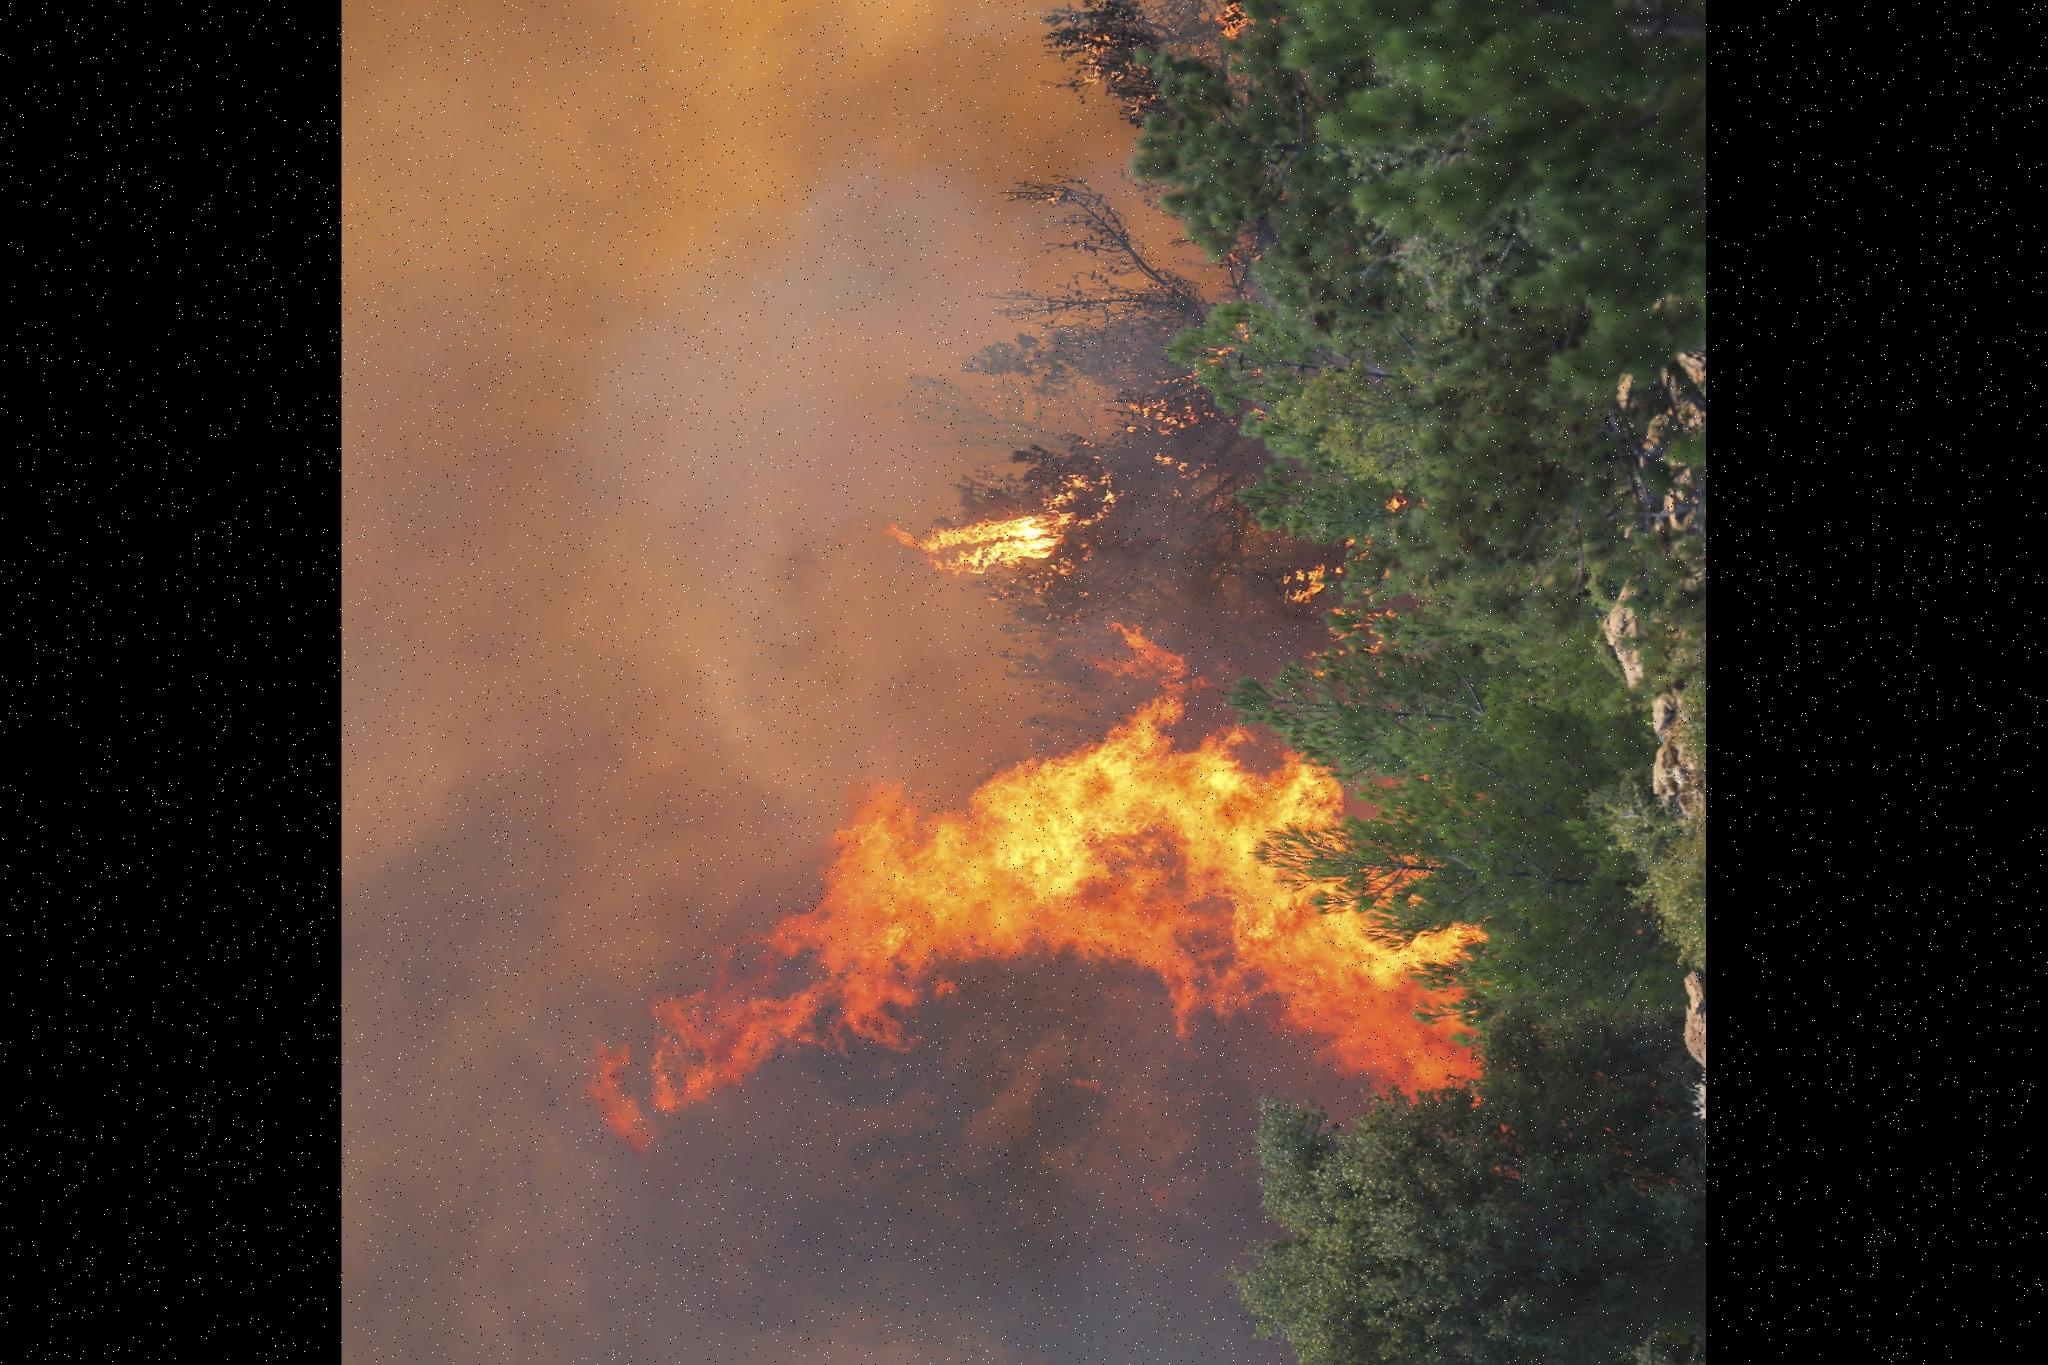fire: (571, 705, 1475, 1178)
